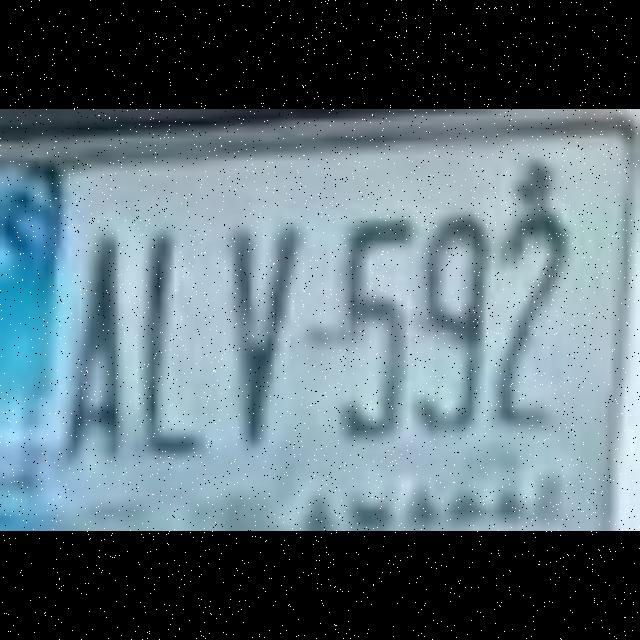2: (495, 192, 573, 454)
5: (342, 192, 420, 454)
9: (417, 192, 495, 454)
A: (56, 203, 134, 465)
L: (137, 198, 215, 460)
Y: (217, 196, 295, 458)
